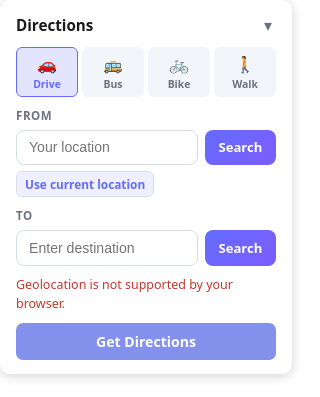
Test: NavigationPanel › shows error when getDirections fails
Step 1. Type "Montreal" into the field labelled "From" → (107, 148), box [16,130,198,165]
Step 2. Click the button "Search" below "From" → click(240, 148), box [205,130,276,165]
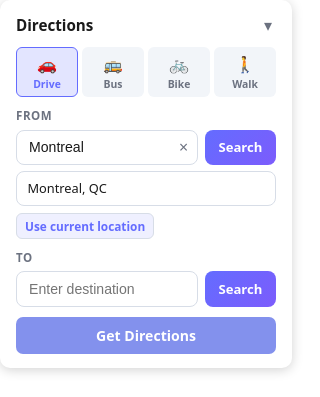
Step 3. Click the list item "Montreal, QC" → click(67, 188), box [27,179,107,197]
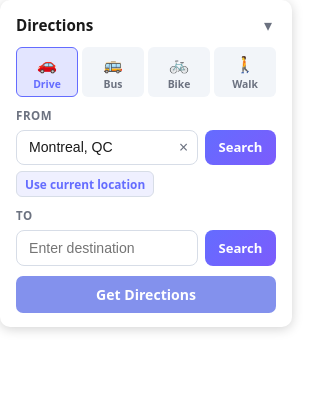
Step 4. Type "Laval" into the field labelled "To" → (107, 248), box [16,230,198,266]
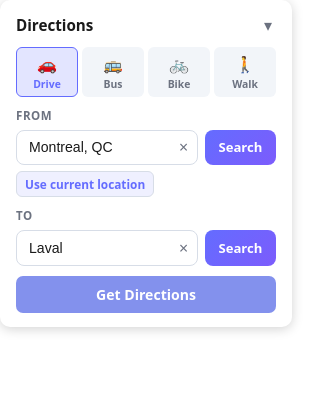
Step 5. Click the button "Search" below "To" → click(240, 248), box [205,230,276,266]
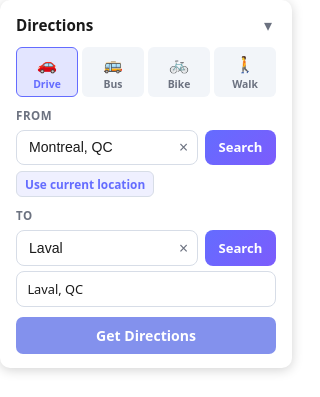
Step 6. Click the list item "Laval, QC" → click(55, 289), box [27,280,83,298]
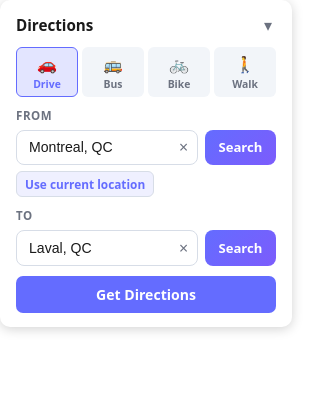
Step 7. Click the button "Get Directions" → click(146, 294), box [16,276,276,313]
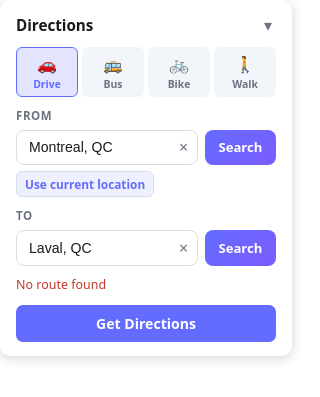
Expected: the message "No route found" is shown, [16,276,106,293]
